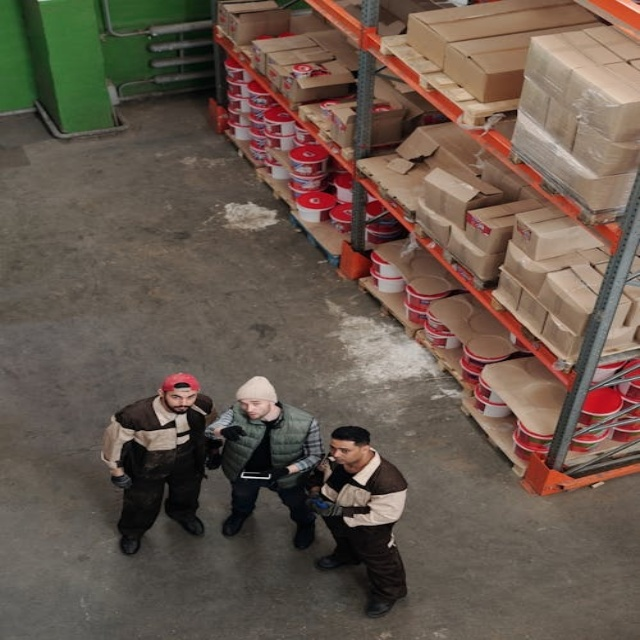Guantes: (309, 499, 342, 518), (220, 425, 246, 442), (266, 466, 290, 482), (110, 473, 132, 490), (204, 450, 222, 470), (306, 489, 323, 504)
Sin_mascara: (172, 405, 189, 410)
